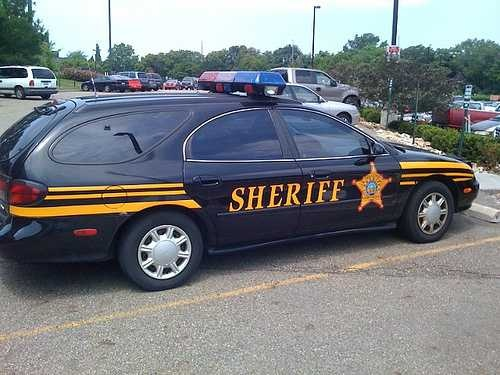Police Car: (3, 72, 484, 277)
